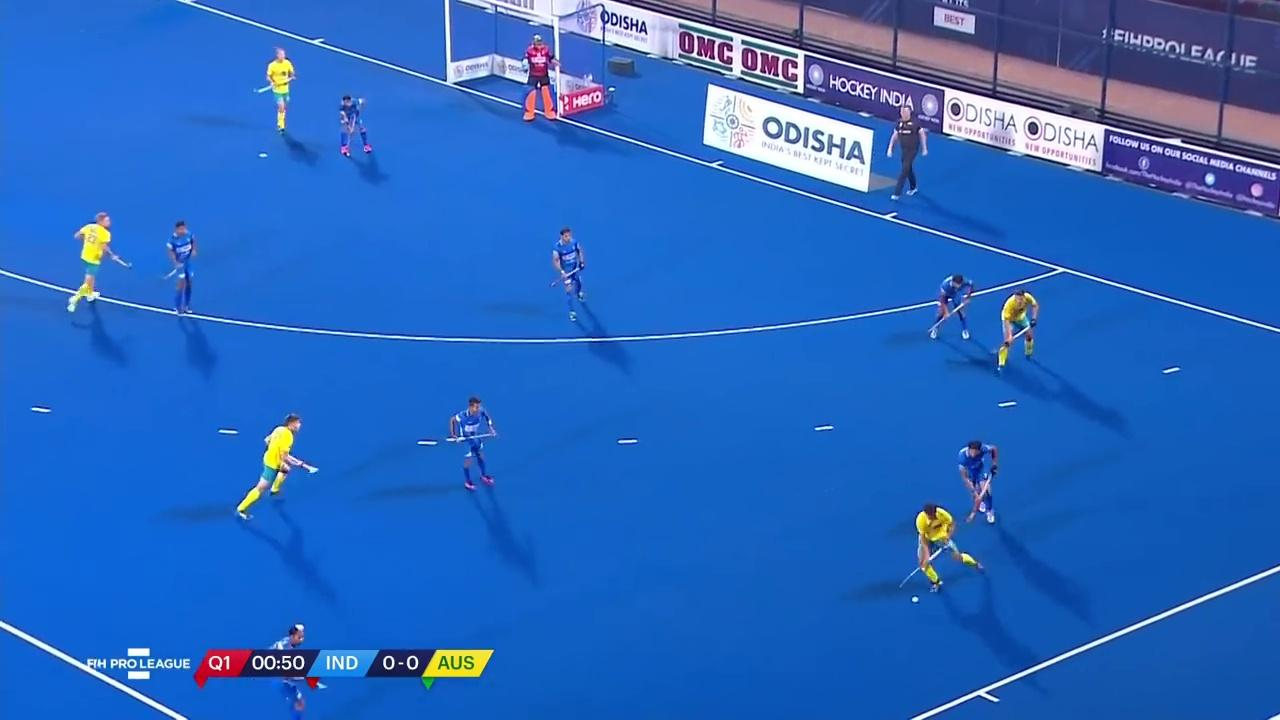ball: (909, 593, 924, 607)
